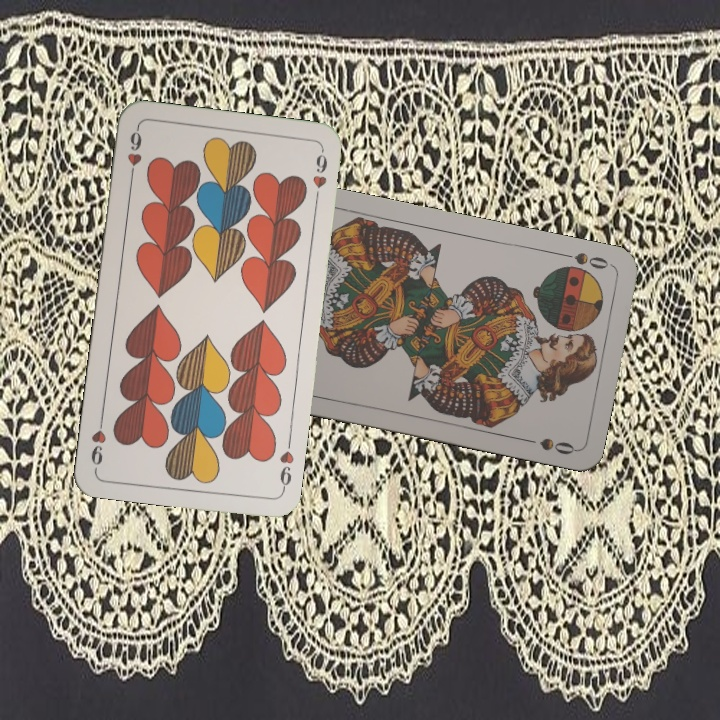H9: (123, 124, 145, 183), (275, 447, 297, 494)
SO: (557, 248, 616, 275)
